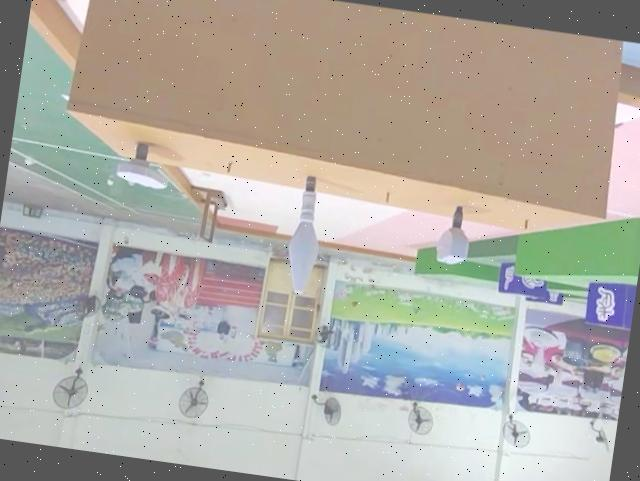Fist: (431, 202, 475, 267)
Hand: (113, 140, 171, 194)
Sph: (278, 172, 328, 296)
